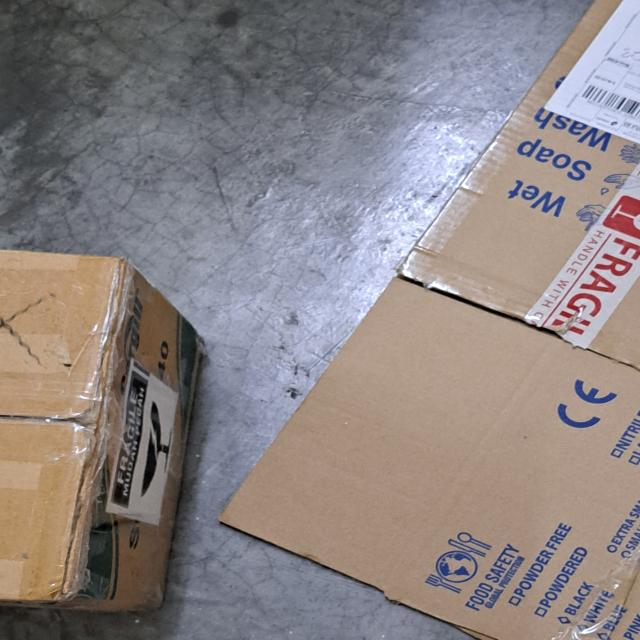cardboard: (218, 0, 640, 640), (0, 250, 204, 616)
